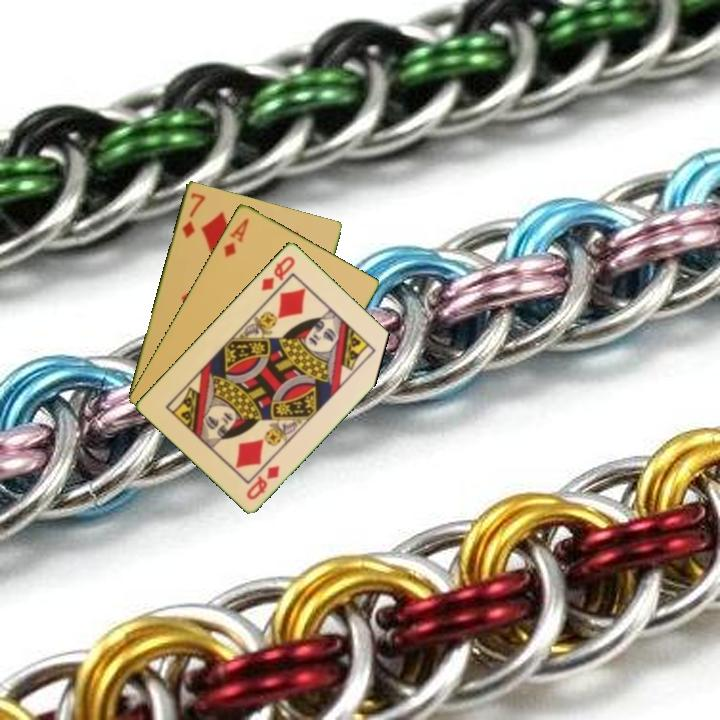7d: (178, 189, 208, 240)
Ad: (220, 214, 252, 259)
Qd: (257, 252, 298, 293), (243, 461, 282, 503)
